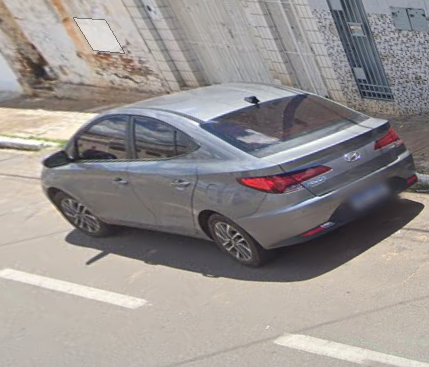car: (36, 82, 423, 269)
